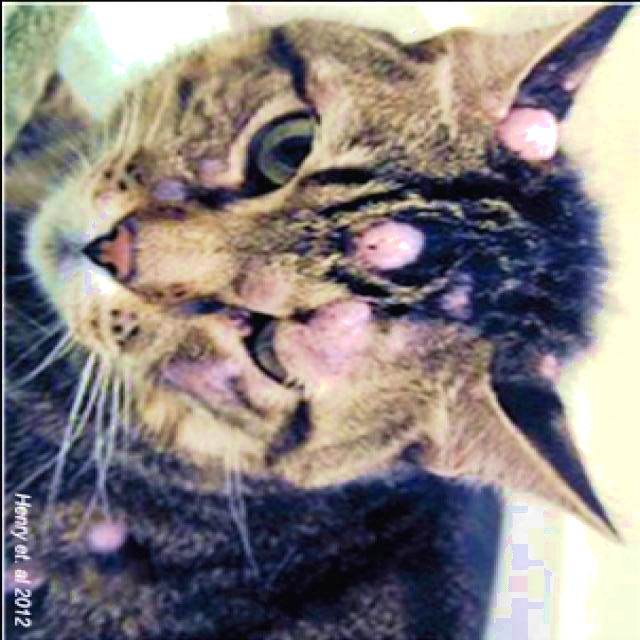lump_and_bump: (299, 297, 372, 383), (500, 105, 562, 168), (364, 226, 422, 268), (83, 526, 129, 553), (153, 181, 186, 204), (537, 358, 558, 381)
